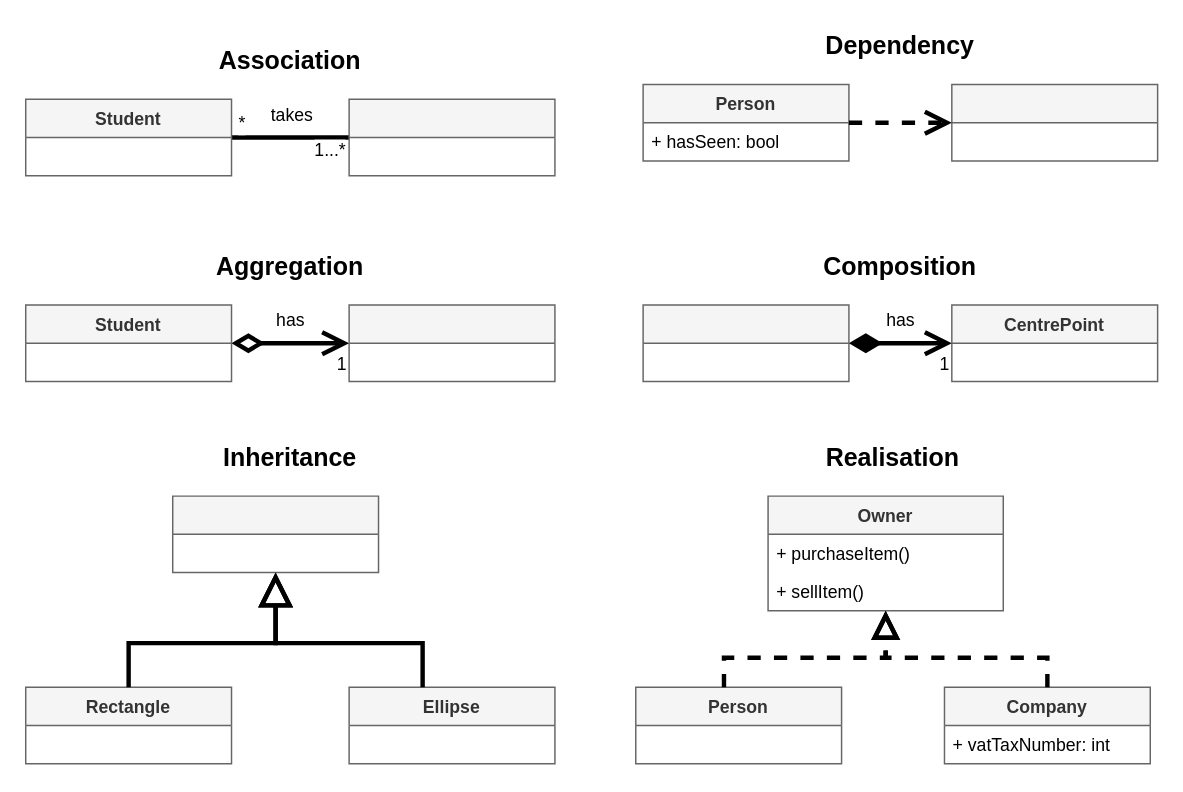
This 1183x792 diagram has some shape labels left out. Here are the shapes that lost their labels. From the top down, the centre of each, then its label:
At (x=451, y=137): "Course".
At (x=1054, y=122): "Movie".
At (x=451, y=342): "Address".
At (x=745, y=342): "Circle".
At (x=275, y=534): "Shape".
